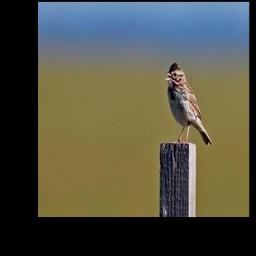Sparrow: (164, 59, 214, 151)
